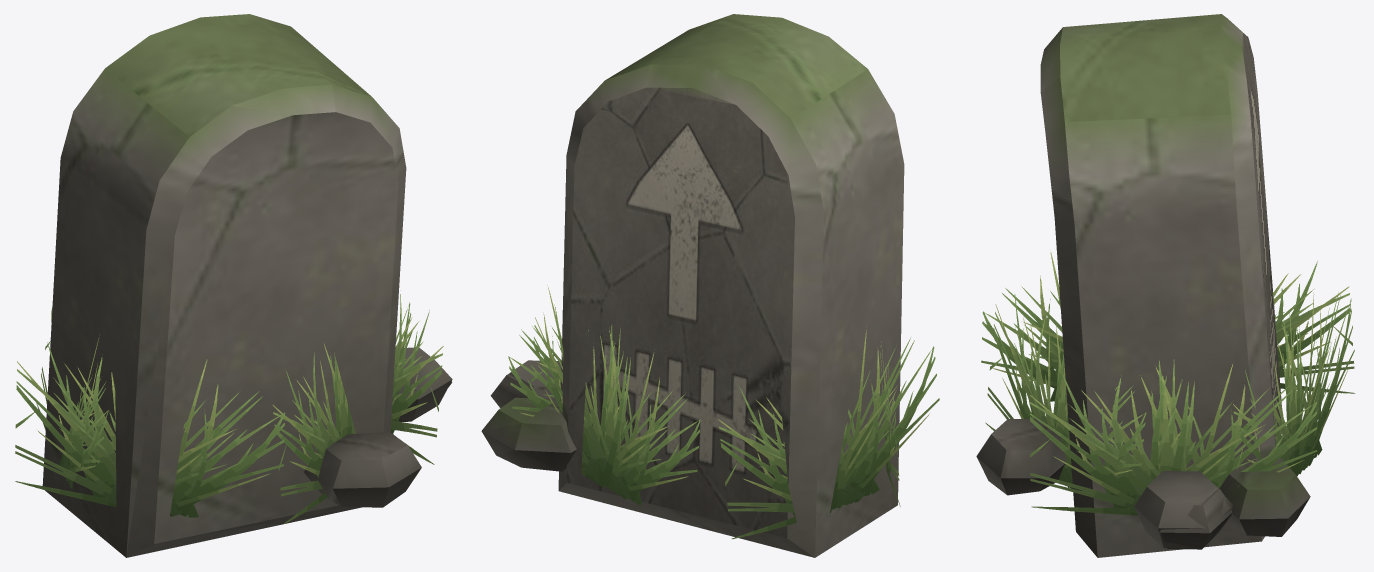
Rendered from milestone.glb.
The picture shows the model from 3 angles, left to right: view 1: azimuth 30°, elevation 25°; view 2: azimuth 150°, elevation 25°; view 3: azimuth 270°, elevation 25°; orthographic projection.
Parts seen in each view (by area): view 1: milestone; view 2: milestone; view 3: milestone.
Part boxes in pixels (left/top/right/bottom): milestone: left=15, top=14, right=452, bottom=557; milestone: left=481, top=14, right=939, bottom=557; milestone: left=976, top=14, right=1355, bottom=557.
Bounding box in the file's own units: 0.6981 × 0.7513 × 0.5603.
Materials: 2 (2 with a texture image).
